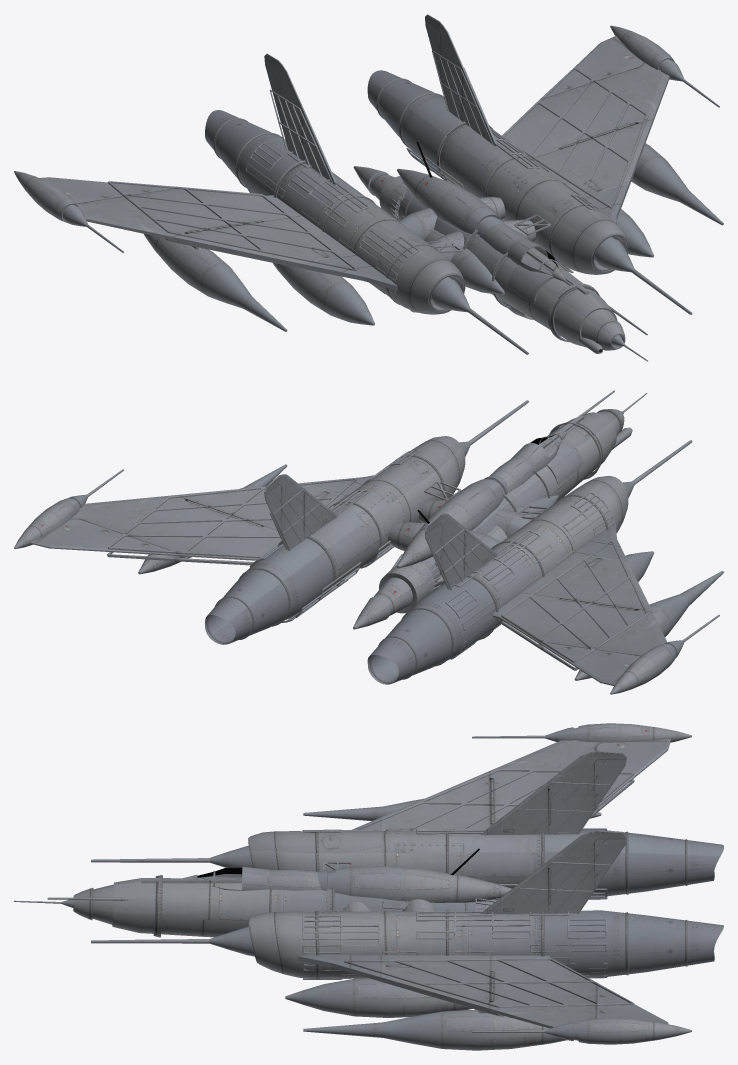
Rendered from interceptor.glb.
3 renders of one model, top to bottom at view 1: azimuth 30°, elevation 25°; view 2: azimuth 150°, elevation 25°; view 3: azimuth 270°, elevation 25°, orthographic.
Visible parts, largest first — view 1: Cylinder.001_1, Cylinder.014_0, Cube.001_2; view 2: Cylinder.001_1, Cylinder.014_0, Cube.001_2; view 3: Cylinder.014_0, Cylinder.001_1, Cube.001_2.
Boxes of the visible parts, x1,y1,x2,y2 form: Cylinder.001_1: (14, 53, 528, 354); Cylinder.014_0: (367, 14, 723, 314); Cube.001_2: (353, 142, 647, 361); Cylinder.001_1: (367, 440, 723, 694); Cylinder.014_0: (14, 400, 528, 644); Cube.001_2: (353, 390, 647, 629); Cylinder.014_0: (91, 830, 723, 1050); Cylinder.001_1: (91, 723, 723, 899); Cube.001_2: (14, 848, 511, 937).
Bounding box in the file's own units: 13.32 × 3.2 × 13.06.
Materials: 2 (1 with a texture image).
